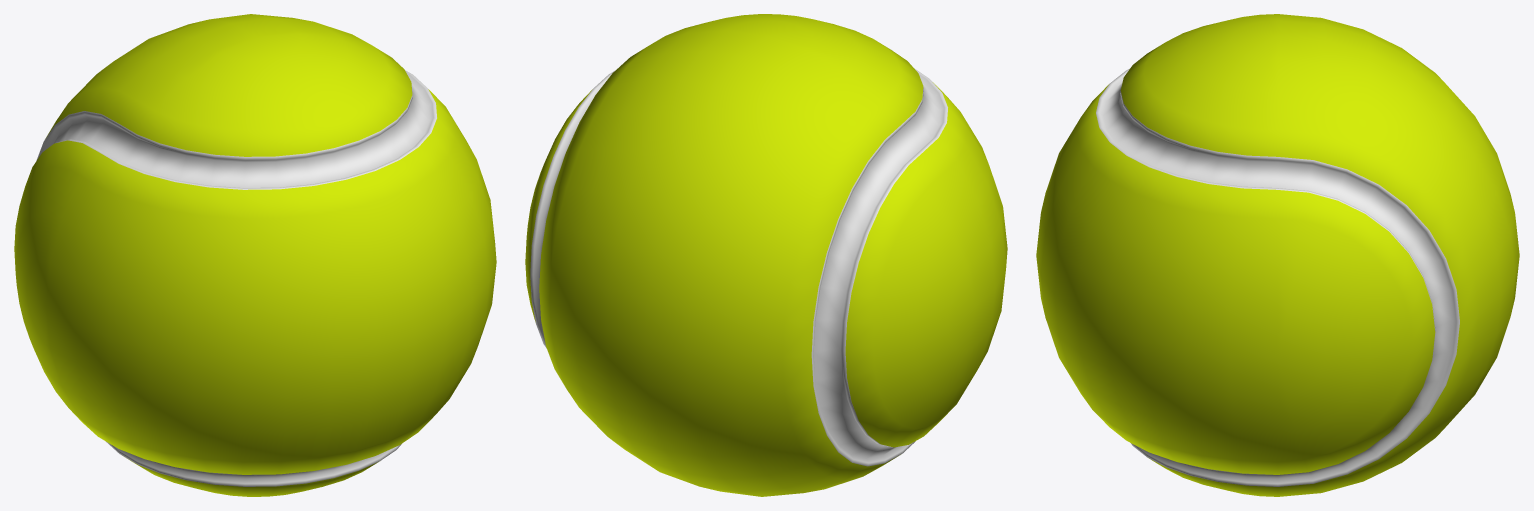
File: tennis_ball.glb
3 views of the same model, side by side, from view 1: azimuth 30°, elevation 25°; view 2: azimuth 150°, elevation 25°; view 3: azimuth 270°, elevation 25° (orthographic).
Parts seen in each view (by area): view 1: Sphere; view 2: Sphere; view 3: Sphere.
Part boxes in pixels (bbox=[...]): Sphere: bbox=[14, 14, 496, 496]; Sphere: bbox=[525, 14, 1007, 496]; Sphere: bbox=[1036, 14, 1519, 496].
Bounding box in the file's own units: 2 × 2 × 2.
